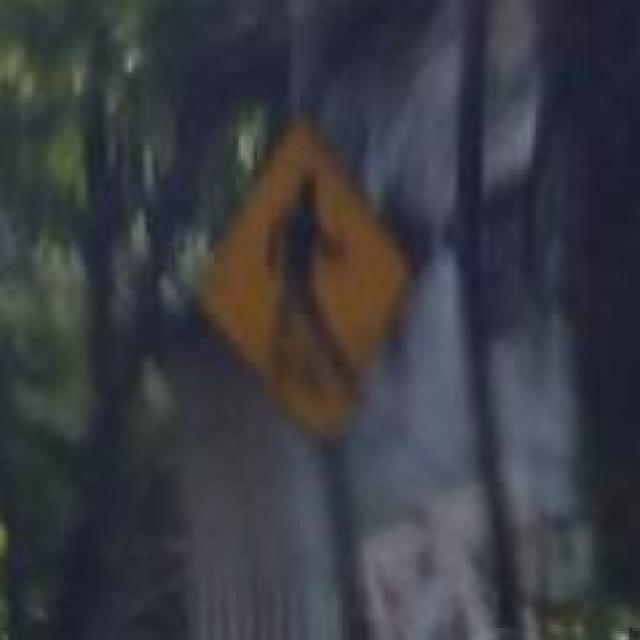traffic sign: (206, 121, 423, 429)
